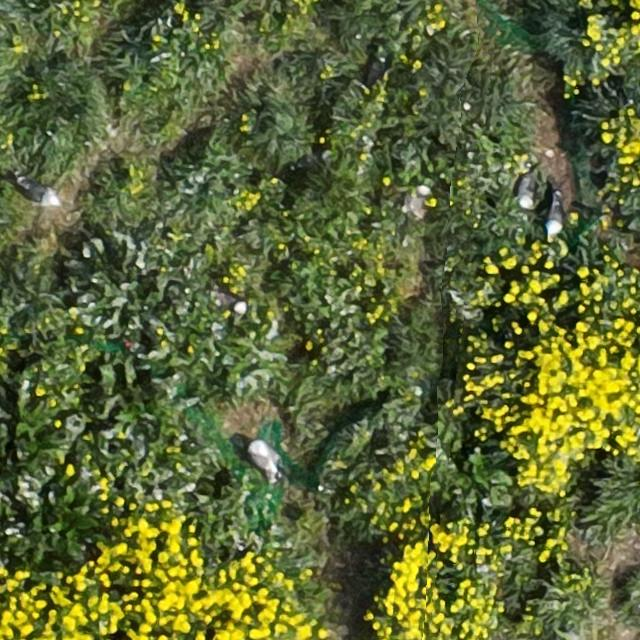umineko: (249, 440, 278, 475), (17, 182, 57, 205), (545, 198, 563, 236), (402, 186, 428, 212), (517, 175, 534, 209)
